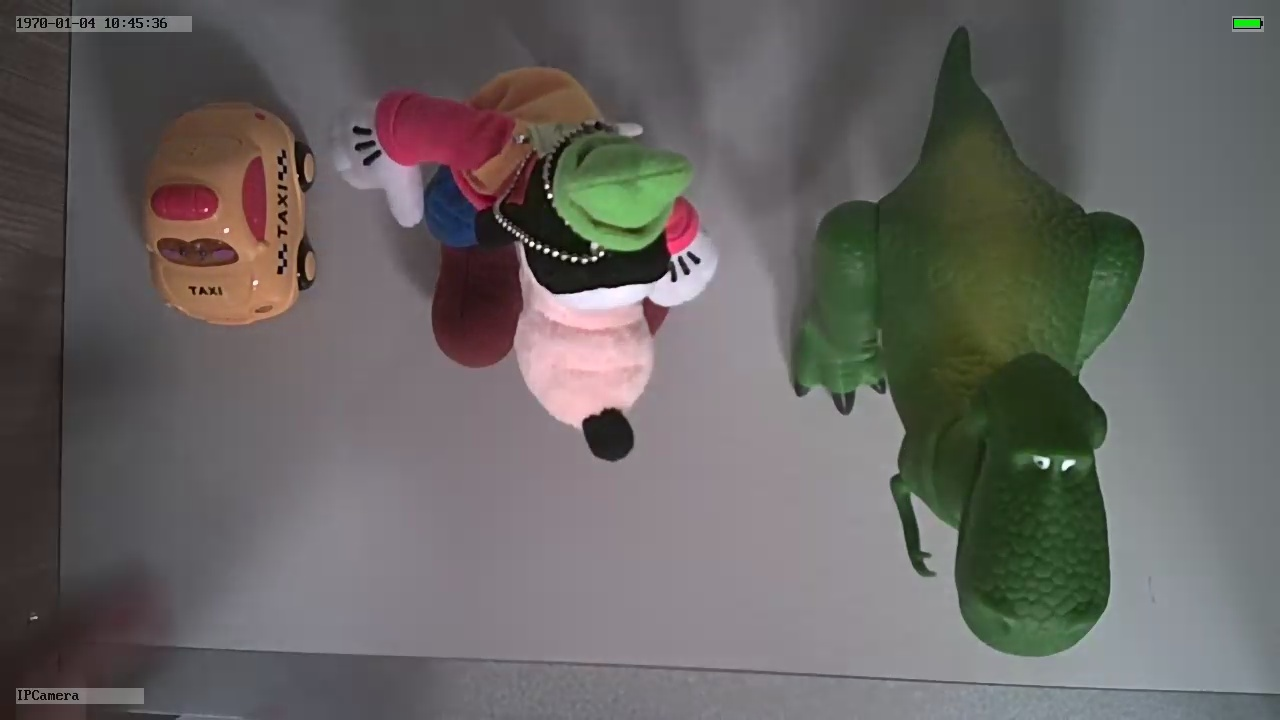car: (138, 94, 317, 331)
goofy: (332, 67, 718, 460)
rex: (791, 98, 1146, 658)
